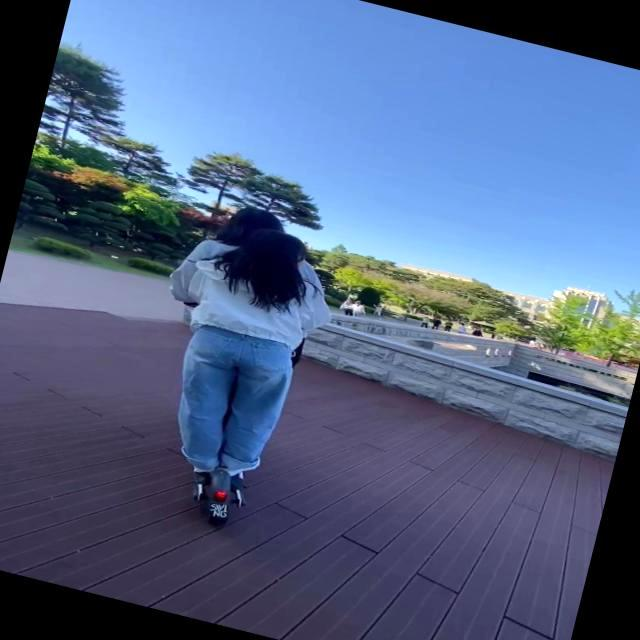bare_head: (237, 230, 313, 278), (217, 205, 284, 250)
human: (163, 207, 309, 467), (175, 233, 306, 473)
kickboard: (165, 456, 259, 523)
